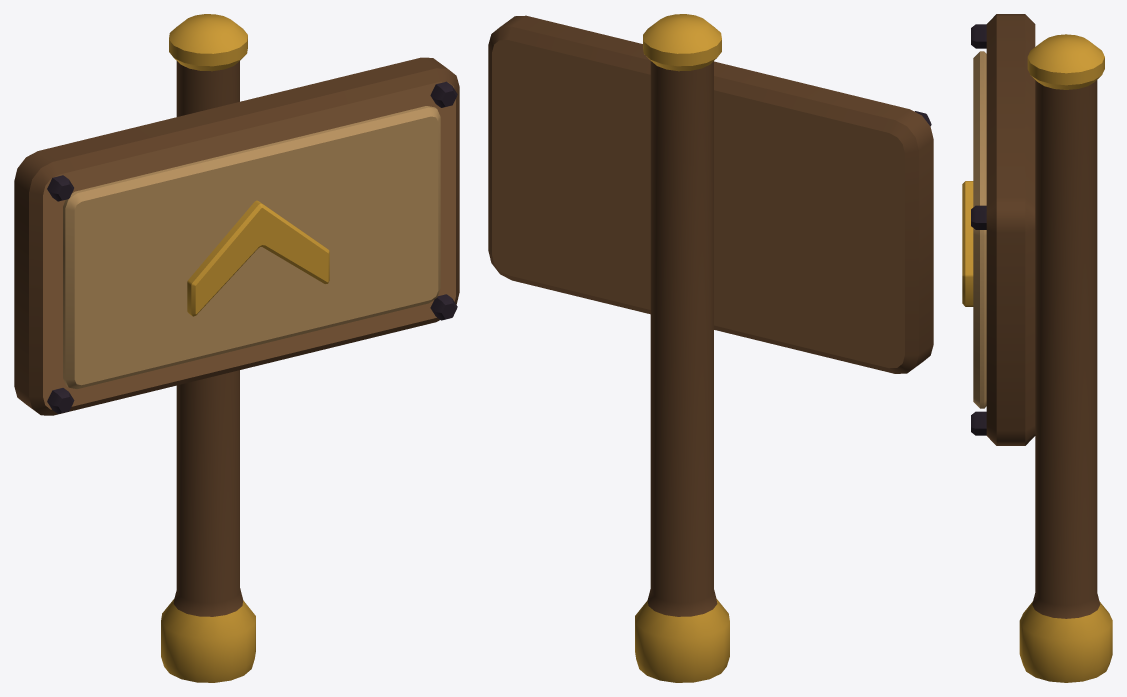
The model's file is Sign_18.glb.
The picture shows the model from 3 angles, left to right: view 1: azimuth 30°, elevation 25°; view 2: azimuth 150°, elevation 25°; view 3: azimuth 270°, elevation 25°; orthographic projection. The views are drawn at different scales.
Visible parts, largest first — view 1: Sign_18; view 2: Sign_18; view 3: Sign_18.
Part boxes in pixels (box(x1,y1,x2,y2)): Sign_18: box(14, 14, 459, 682); Sign_18: box(488, 14, 933, 682); Sign_18: box(962, 14, 1112, 682).
Size of the model in its own units: 2.18 by 3.11 by 0.68.
